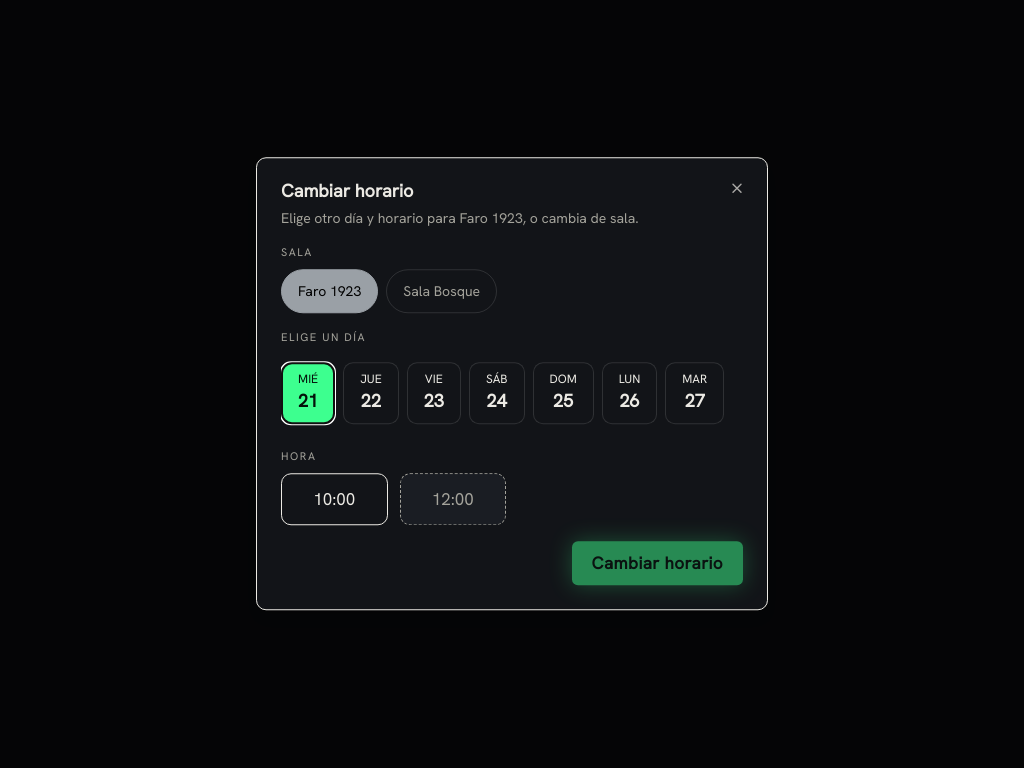
Test case: ChangeSlotDialog › shows the slot-taken message and stays open when someone booked it first
The image size is (1024, 768).
Step 1. Click the button "10:00" → {"x": 334, "y": 500}, box top-left (281, 473), bottom-right (388, 526)
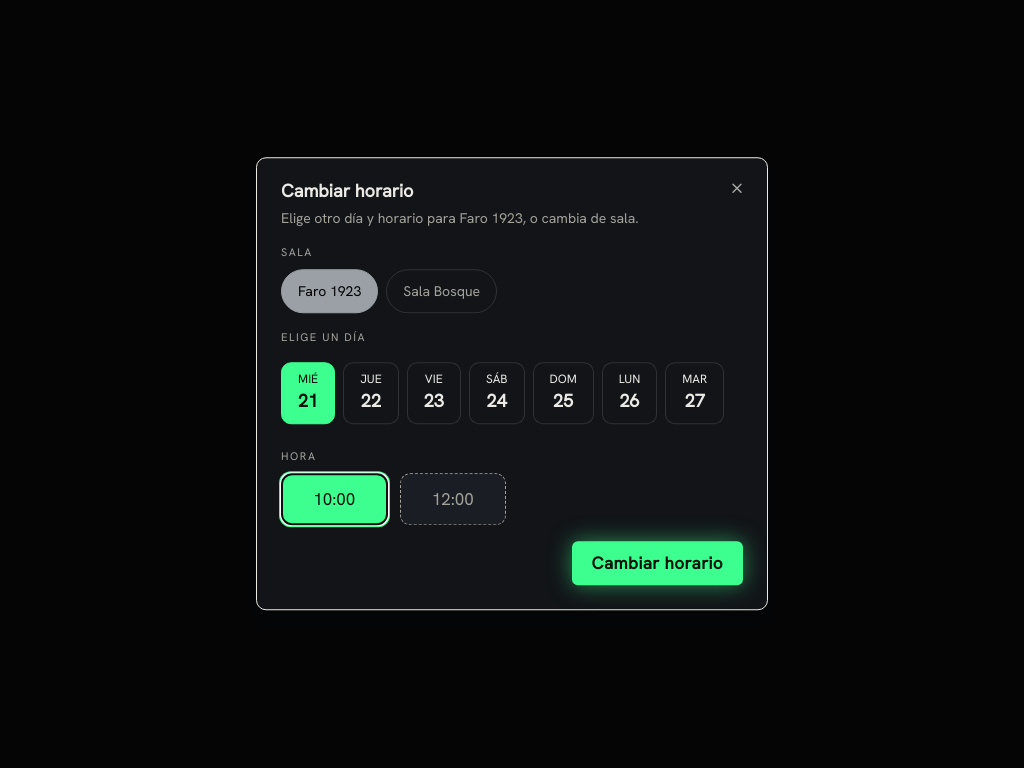
Step 2. Click the button "Cambiar horario" → {"x": 657, "y": 564}, box top-left (572, 542), bottom-right (743, 586)
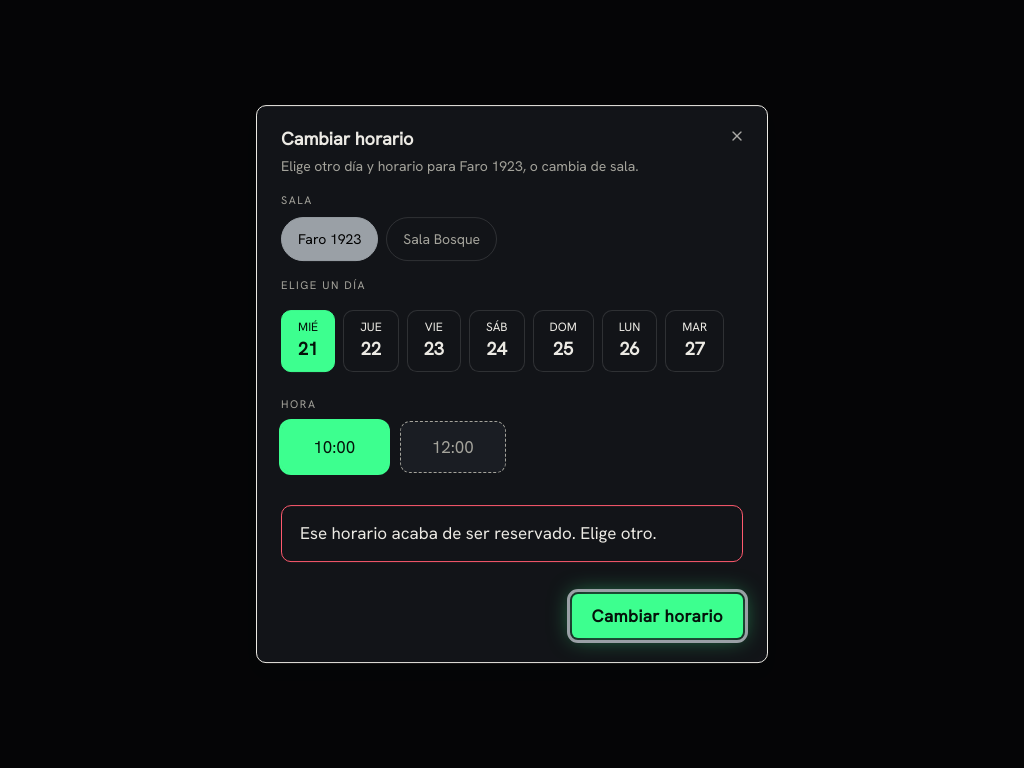
Now the message reads "Ese horario acaba de ser reservado. Elige otro.", box top-left (300, 523), bottom-right (657, 545)
